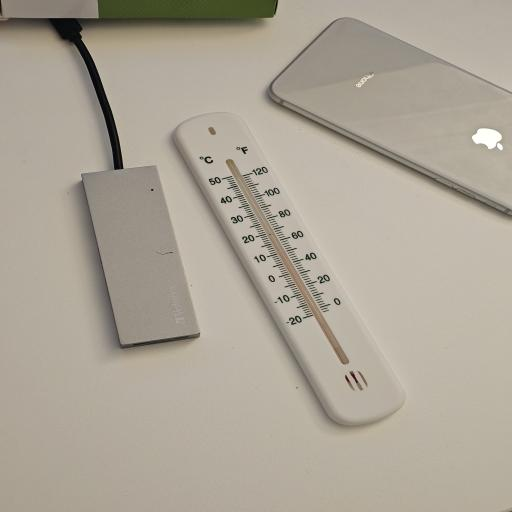thermometer: (170, 110, 409, 428)
